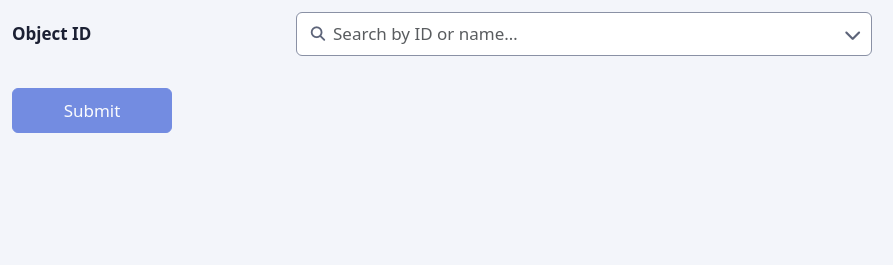
it: picks an option with the keyboard and submits its ID
Later steps or results of the test are not shown.
Click the dropdown labelled "Object ID" at coordinates (584, 34), box [296,12,872,56]
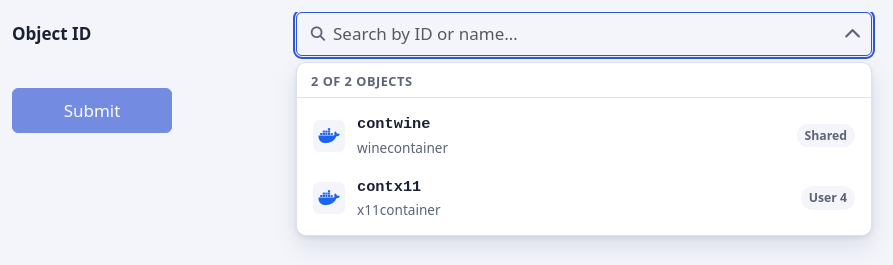
Press Arrowdown Arrowdown
Press Enter
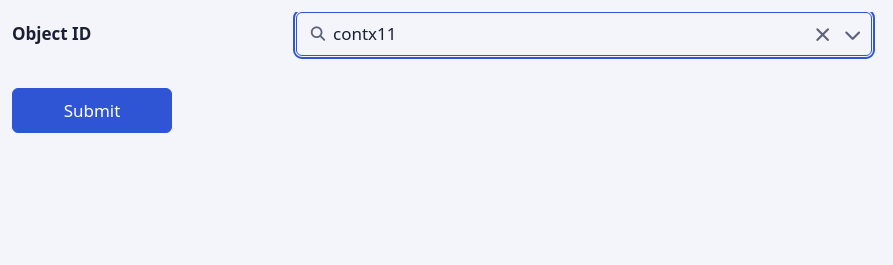
Expected: the dropdown labelled "Object ID" holds "contx11", [296,12,872,56]
Expected: the dropdown labelled "Object ID" is collapsed, [296,12,872,56]
